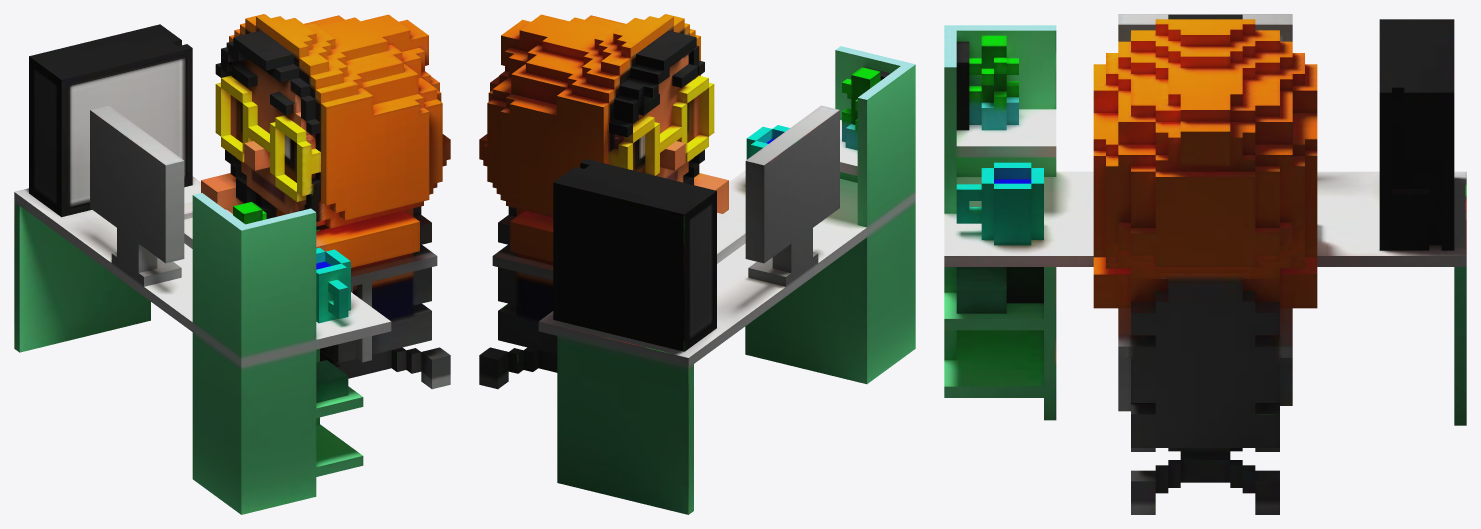
Rendered from MEVoxelArt-v2.glb.
3 renders of one model, left to right at view 1: azimuth 30°, elevation 25°; view 2: azimuth 150°, elevation 25°; view 3: azimuth 270°, elevation 25°, orthographic. The views are drawn at different scales.
Visible parts, largest first — view 1: mini me desk final; view 2: mini me desk final; view 3: mini me desk final.
Part boxes in pixels (x1=…): mini me desk final: x1=14, y1=14, x2=450, y2=514; mini me desk final: x1=479, y1=14, x2=915, y2=514; mini me desk final: x1=944, y1=14, x2=1466, y2=514.
Size of what is drawn, in the model's own units: 3.1 by 3.7 by 4.2.
Materials: 1 (1 with a texture image).
